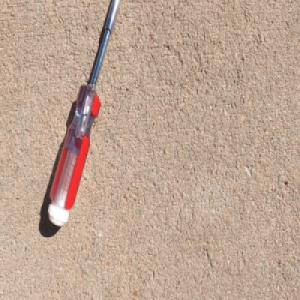Screwdriver: (46, 0, 121, 227)
